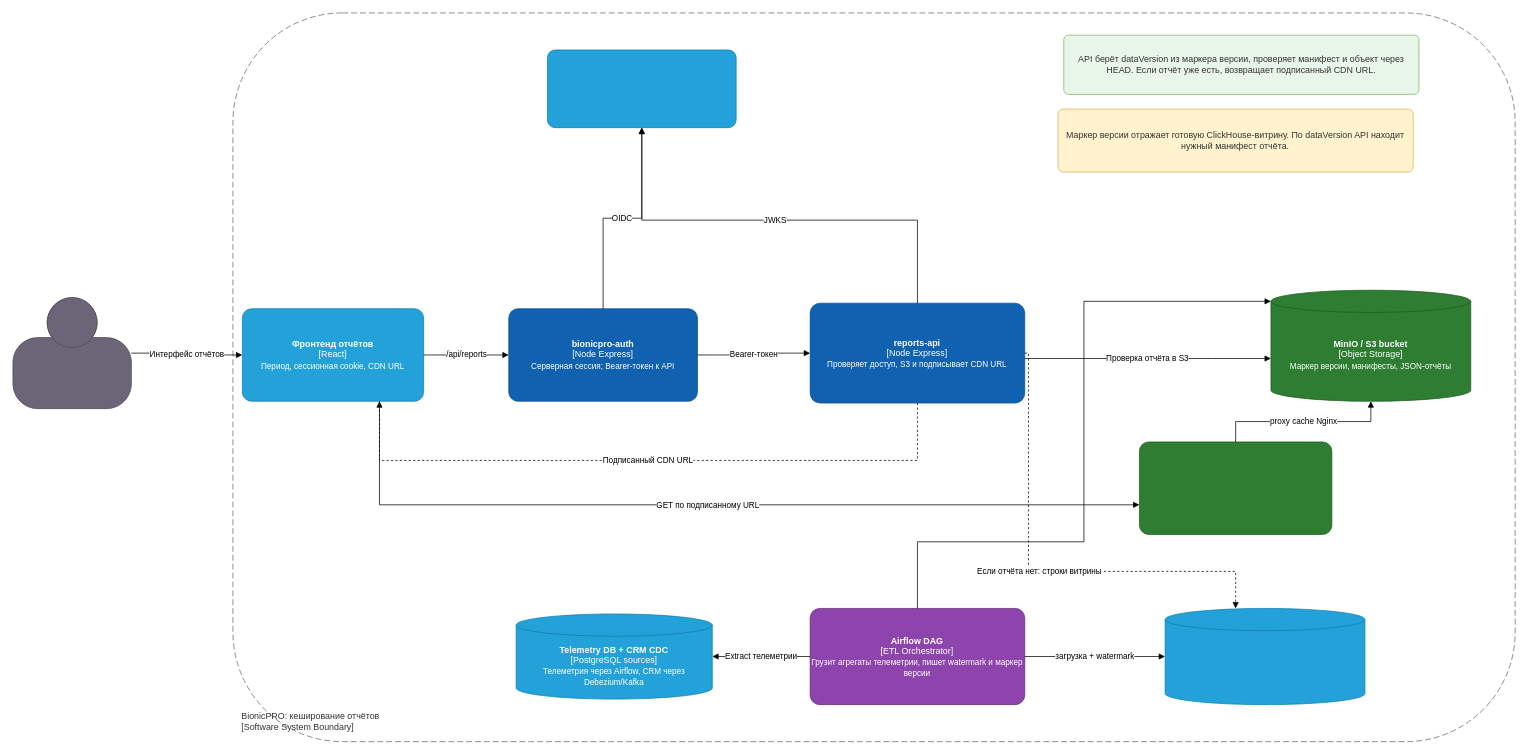
Image size: 1528x755. Some labels were removed from this diagram. The shapes that lost their labels are listed below. From the top down, each one's centre as x and y in pixels, then its label:
point (641, 88): Keycloak IAM / SSO [Container] JWT issuer и JWKS
point (71, 353): Пилот протеза [Person]
point (1235, 487): reports-cdn [Nginx reverse proxy] secure_link, proxy_cache, X-Cache-Status
point (1264, 656): ClickHouse OLAP DB [Container] report_user_daily_current, etl_watermarks
